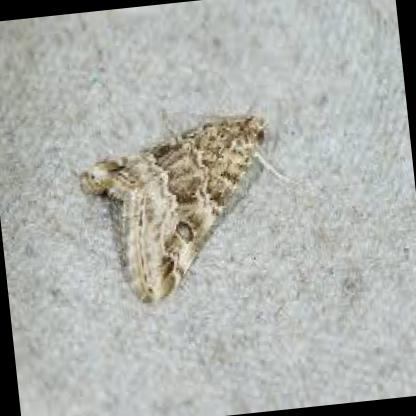Hellula undalis: (75, 99, 300, 310)
